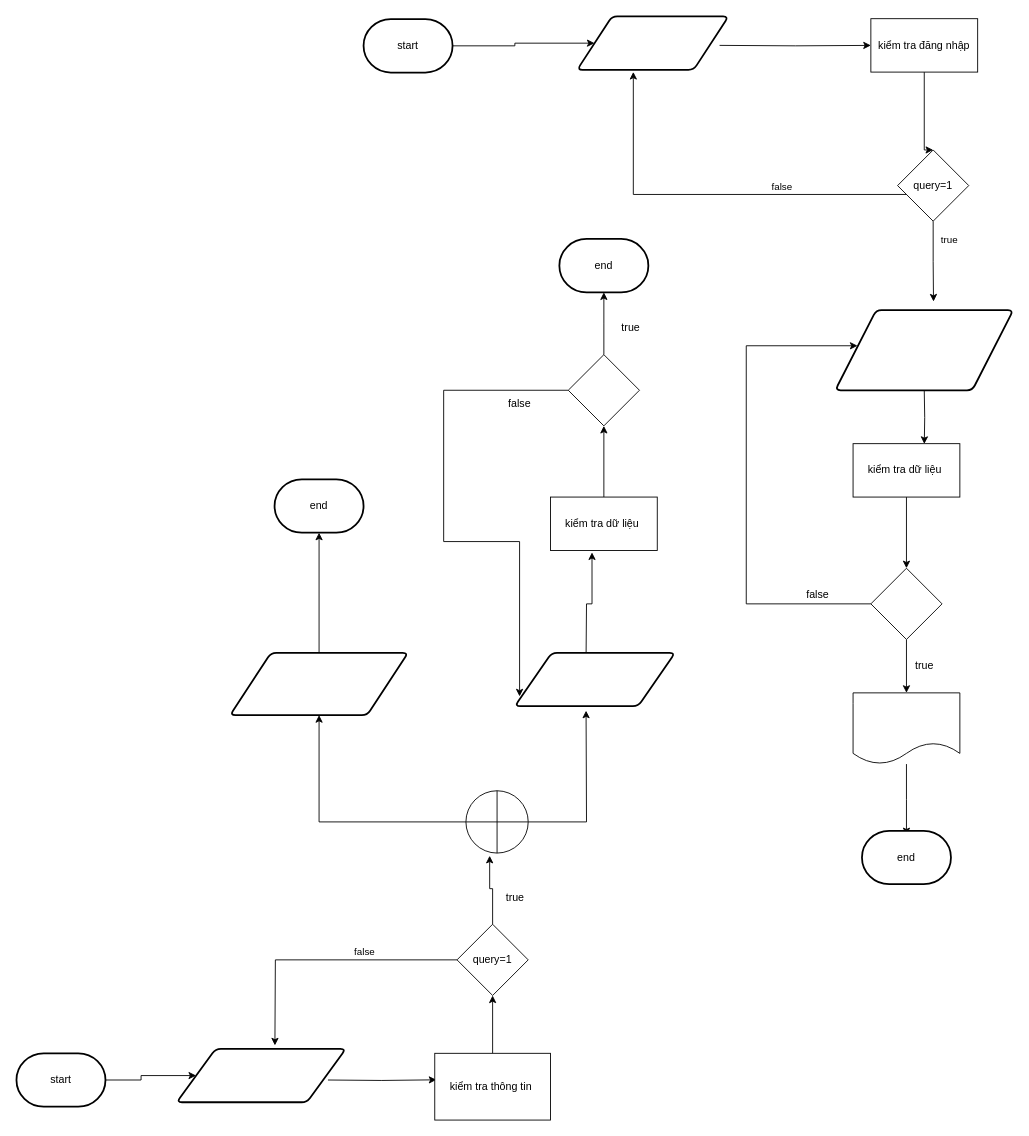
This 1029x1136 diagram has some shape labels left out. Here are the shapes that lost their labels. From the top down, the box of each, then its label:
(576, 15, 729, 70): nhập tên và tài khoản
(834, 309, 1014, 391): chọn chức năng khảo sát và nhâp kế quả khảo sát
(229, 651, 409, 716): Xem thống kê
(514, 651, 676, 707): nhập, xóa , sửa dữ liệu
(852, 692, 960, 764): custom journey map
(175, 1048, 346, 1103): nhập thông tin tài khoản
